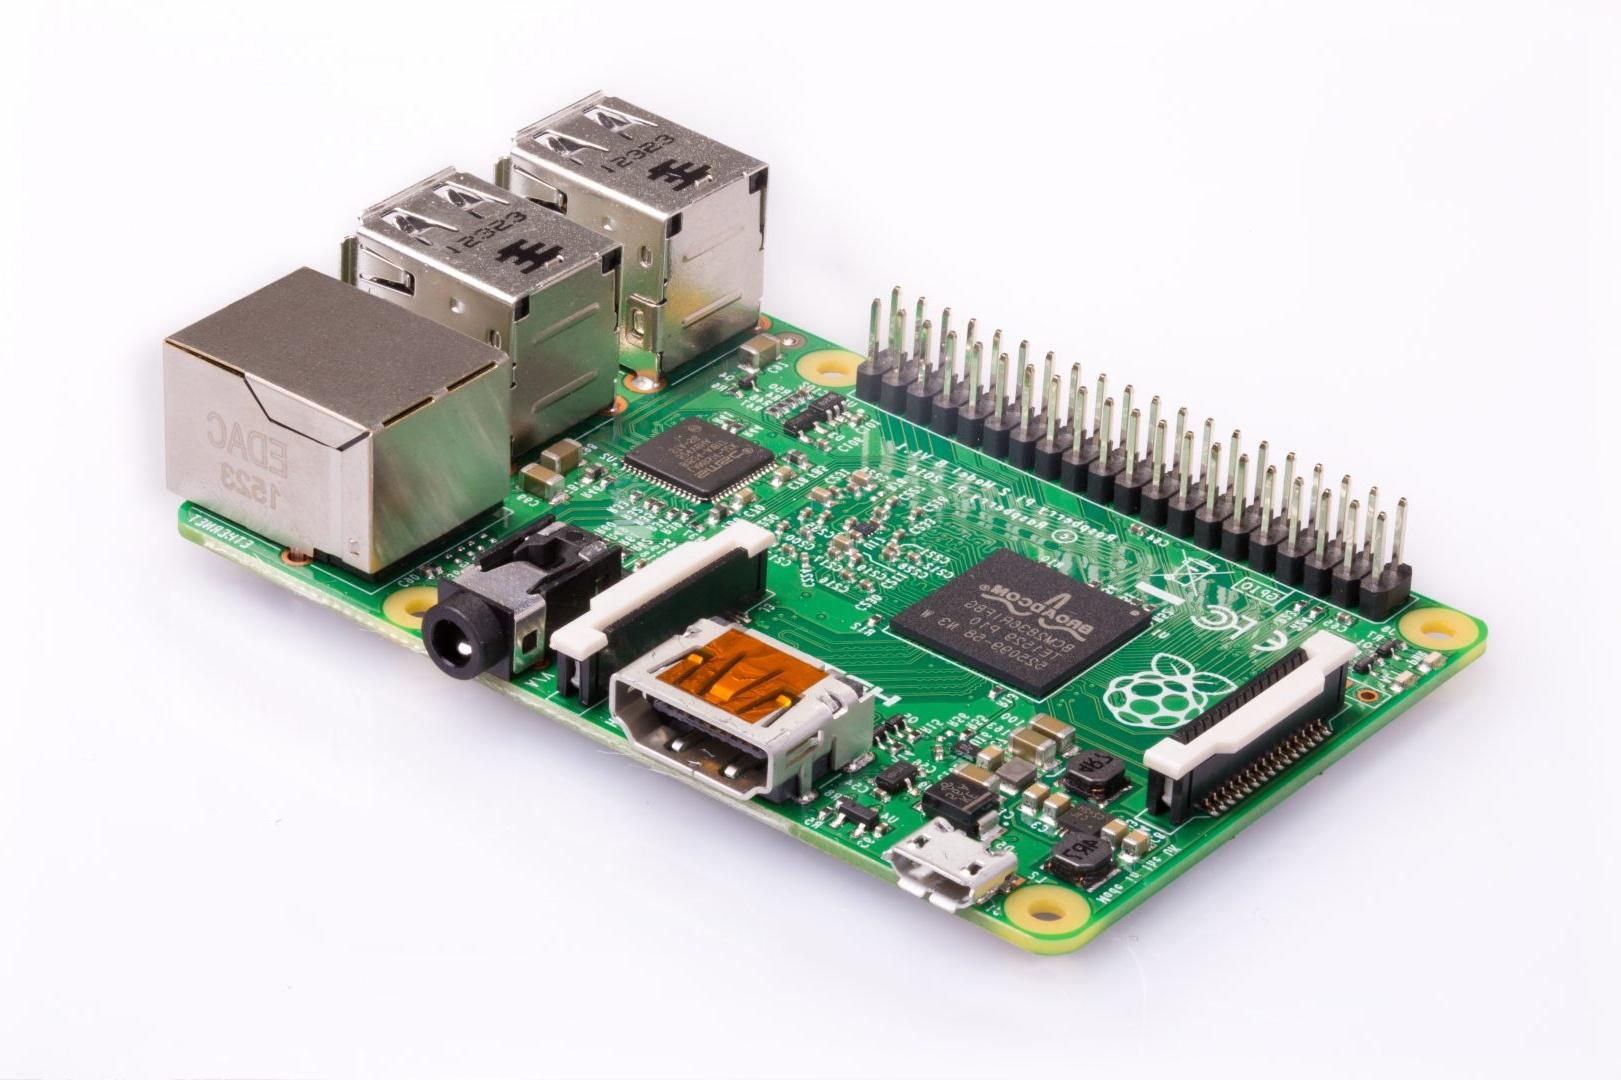audiojack: (421, 511, 632, 669)
bchi: (898, 536, 1159, 698)
ethernet: (161, 268, 517, 559)
gpio: (854, 290, 1416, 614)
usb: (346, 171, 617, 448), (517, 90, 771, 385)
